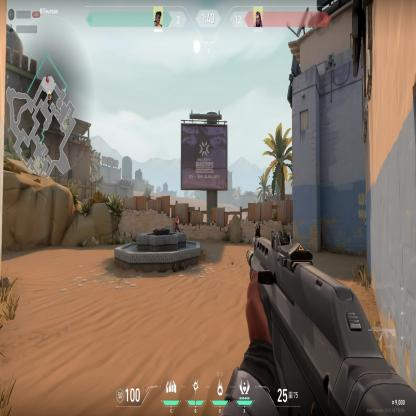enemy: (173, 214, 181, 232)
